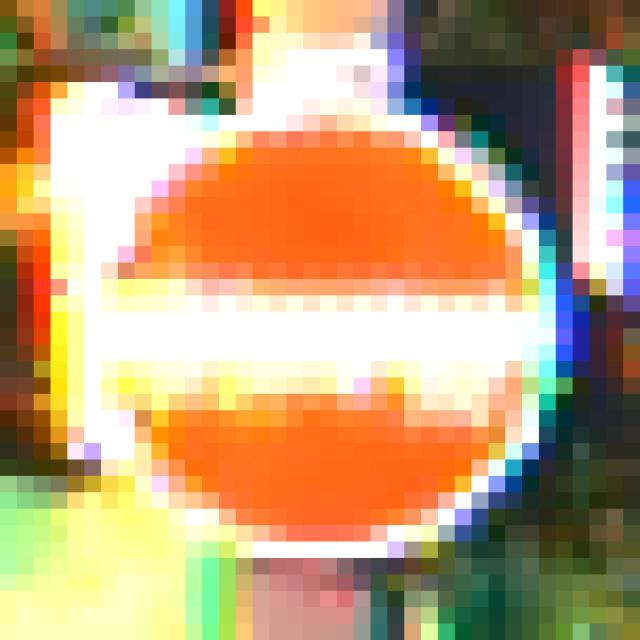No Entry: (85, 99, 557, 559)
